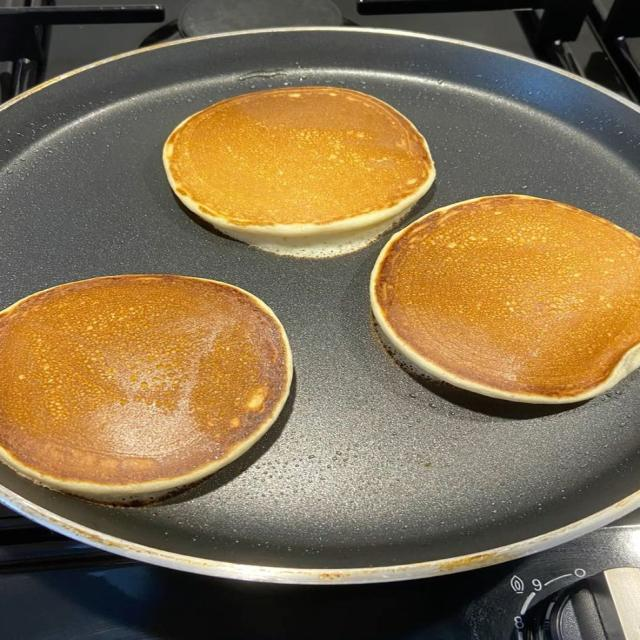pancake: (0, 275, 292, 503), (371, 196, 639, 403), (164, 87, 434, 257)
